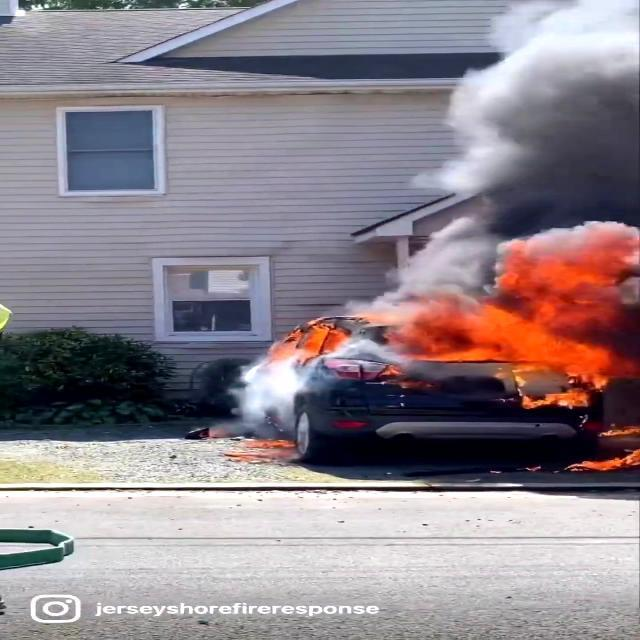Fire: (311, 243, 640, 395), (569, 419, 640, 479)
Smoke: (384, 0, 640, 266), (224, 340, 324, 444)
